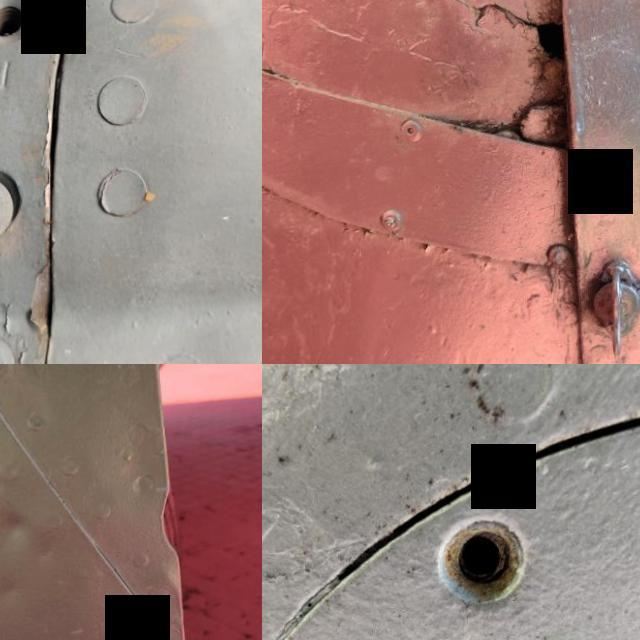Crack: (448, 0, 575, 87)
Dent: (0, 488, 63, 578)
Missing_Fastener: (402, 481, 567, 640), (0, 0, 70, 79)
